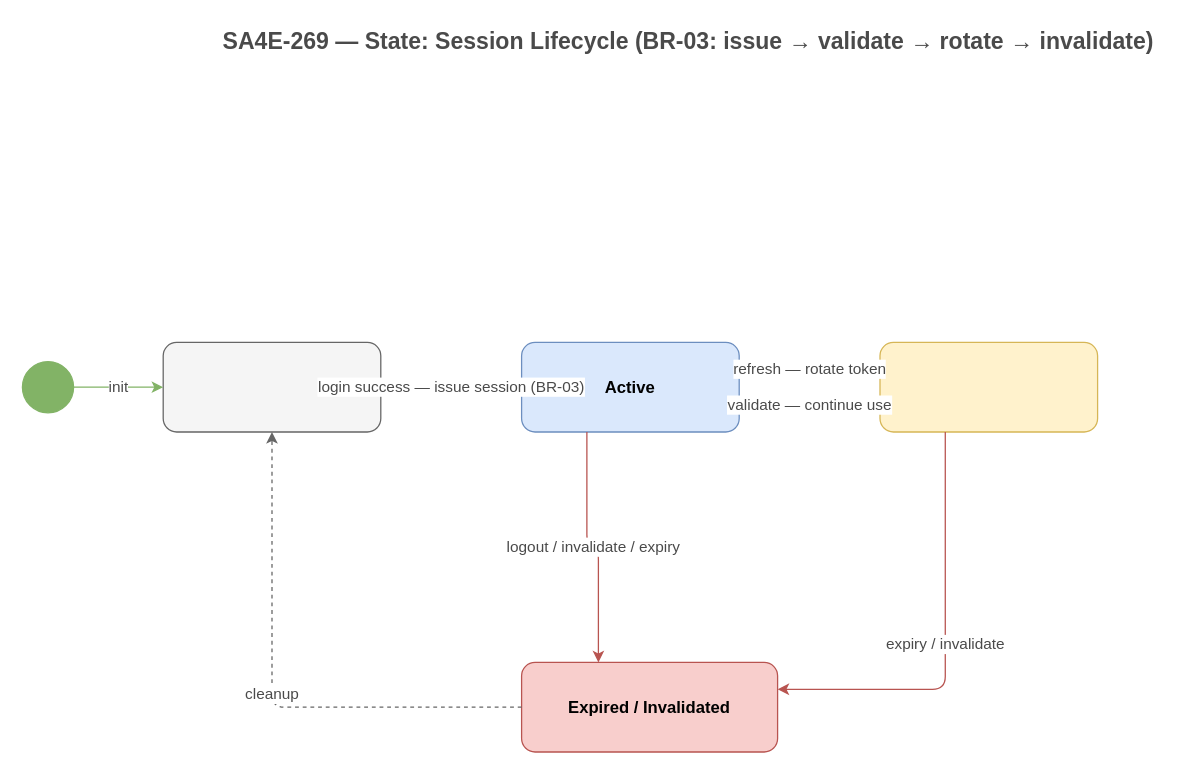
The diagram is 1197 pixels wide and 774 high, and some of its shapes have lost their labels. Here are the shapes that lost their labels. From the top down, the centre of each, then its label:
At (271,386): "No Session".
At (988,386): "Refreshed".
